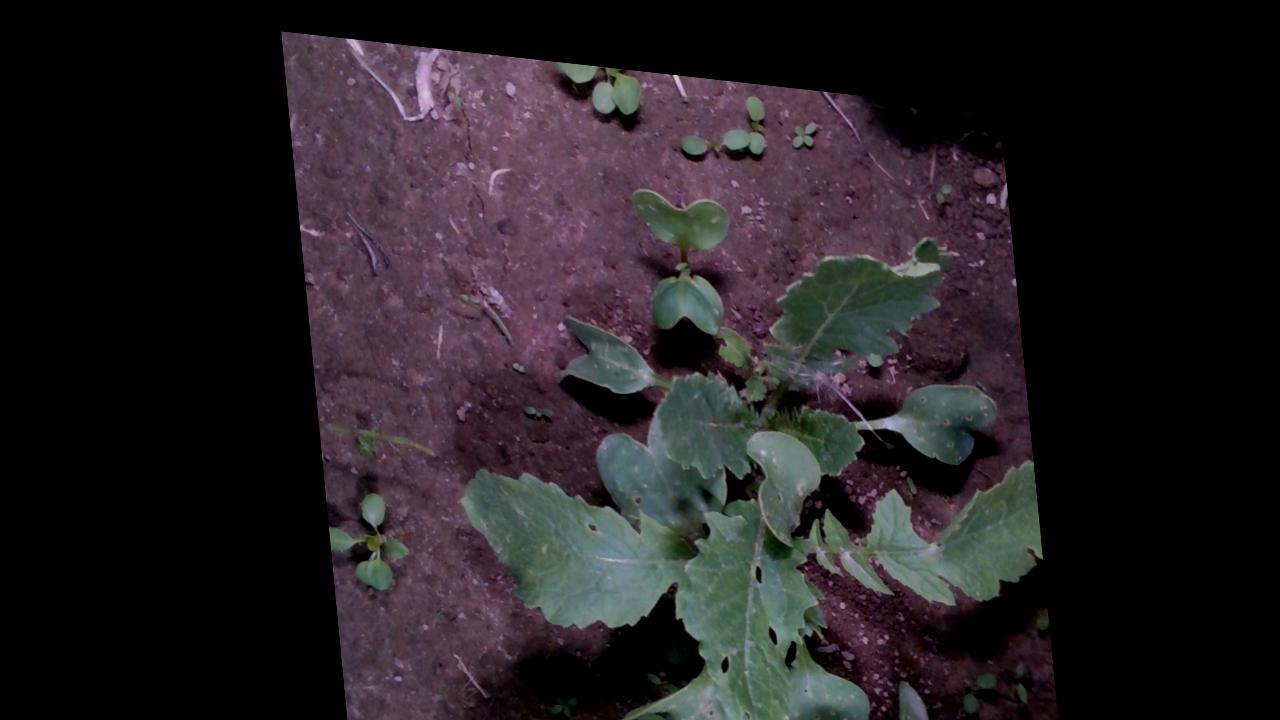weed: (947, 647, 990, 698), (787, 98, 822, 134), (532, 678, 567, 707), (1002, 635, 1017, 682), (931, 158, 956, 184), (514, 392, 549, 407), (504, 347, 520, 360)
